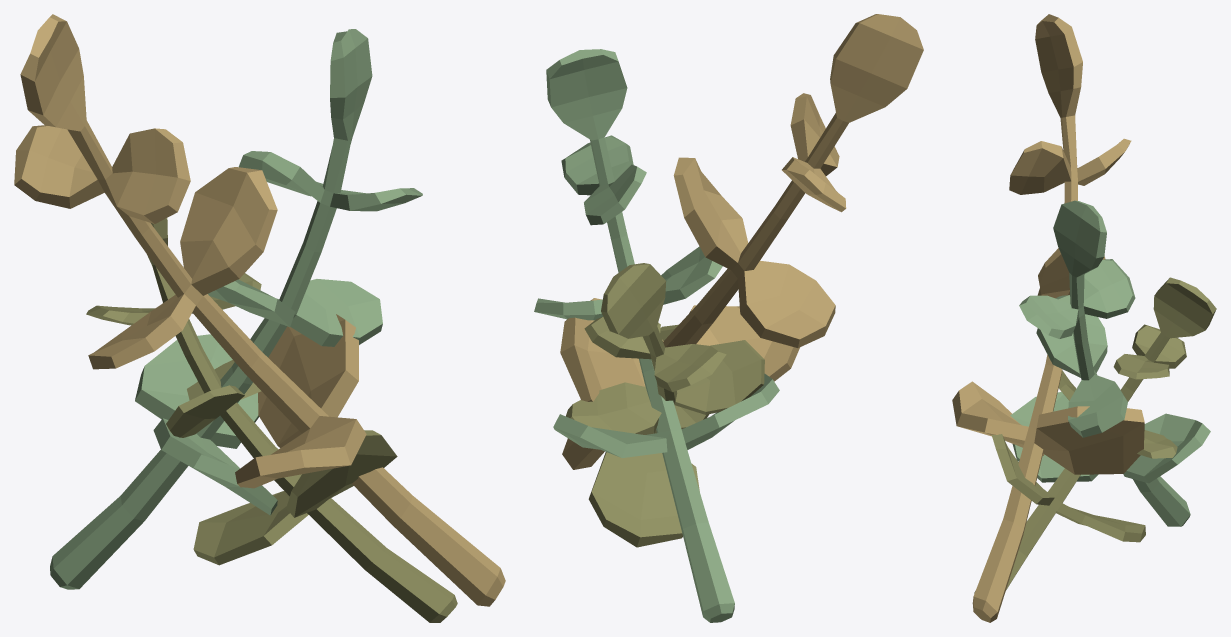
File: herb_bundle.fbx
3 renders of one model, left to right at view 1: azimuth 30°, elevation 25°; view 2: azimuth 150°, elevation 25°; view 3: azimuth 270°, elevation 25°, orthographic. The views are drawn at different scales.
Visible parts, largest first — view 1: herb_bundle; view 2: herb_bundle; view 3: herb_bundle.
Part boxes in pixels (x1,y1,x2,y2): herb_bundle: (14, 14, 505, 622); herb_bundle: (534, 14, 923, 622); herb_bundle: (952, 14, 1216, 622).
Bounding box in the file's own units: 83.25 × 117 × 59.44.
